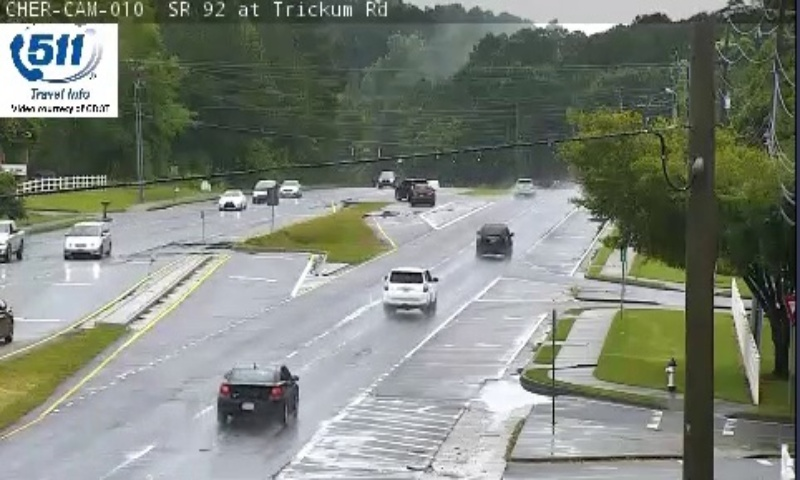car: (217, 364, 298, 418), (383, 267, 434, 310), (475, 223, 512, 258)
